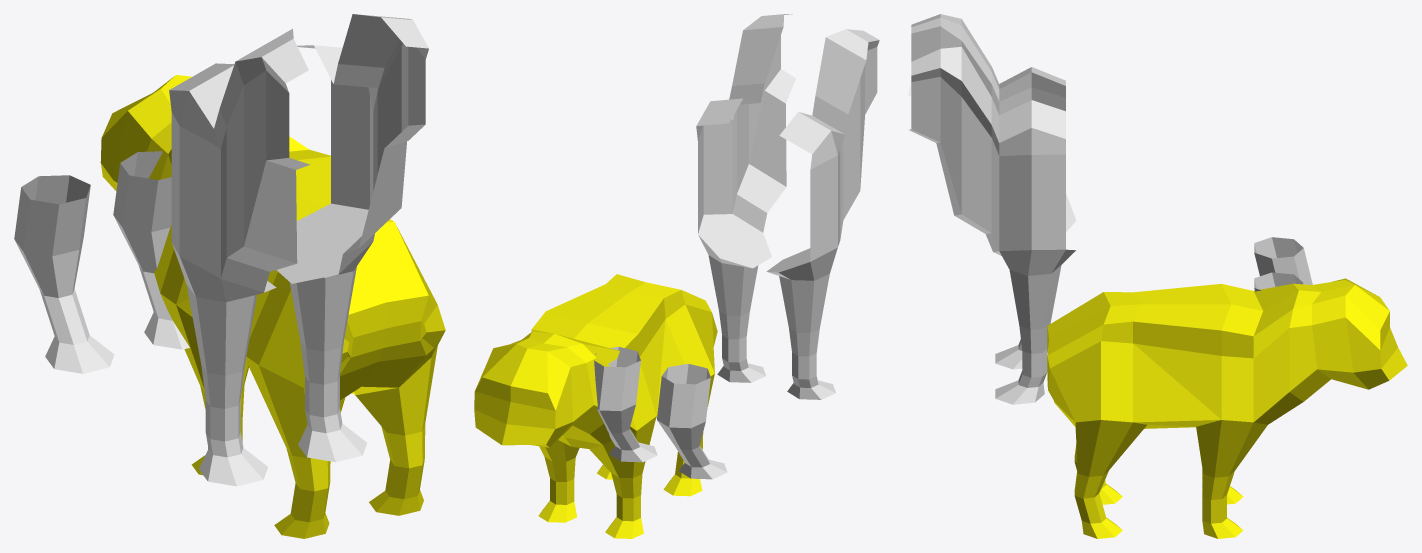
The model's file is dog.fbx.
The picture shows the model from 3 angles, left to right: view 1: azimuth 30°, elevation 25°; view 2: azimuth 150°, elevation 25°; view 3: azimuth 270°, elevation 25°; orthographic projection. The views are drawn at different scales.
Visible parts, largest first — view 1: Cylinder, Cylinder.001; view 2: Cylinder, Cylinder.001; view 3: Cylinder.001, Cylinder.
Part boxes in pixels (x1,y1,x2,y2): Cylinder: (14, 14, 428, 486); Cylinder.001: (100, 75, 445, 538); Cylinder: (594, 14, 879, 479); Cylinder.001: (474, 274, 717, 538); Cylinder.001: (1047, 278, 1407, 538); Cylinder: (908, 14, 1312, 404).
Bounding box in the file's own units: 163 × 304 × 313.
